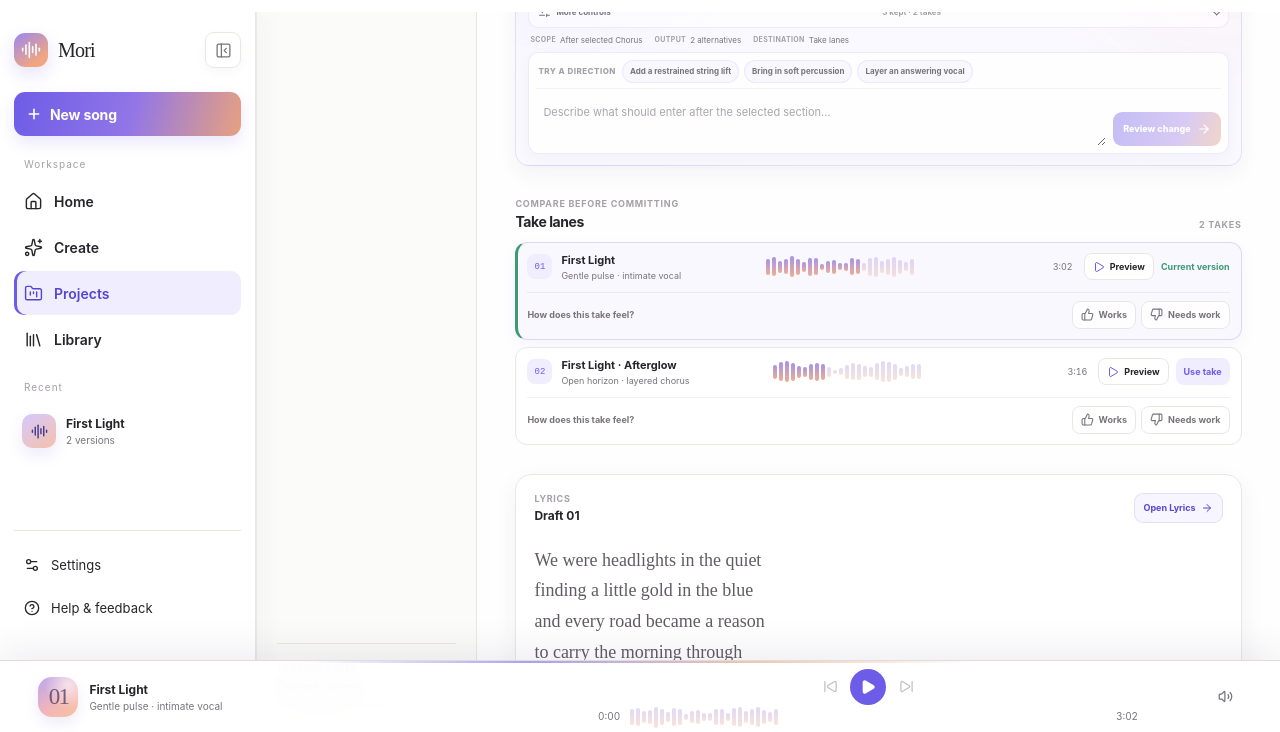
Test: Mori studio page › explains a stale Current conflict without overwriting either Version
(page scrolled)
Click the button with aria-label "Use First Light · Afterglow as current". click: (1203, 372)
box: [1176,358,1230,385]
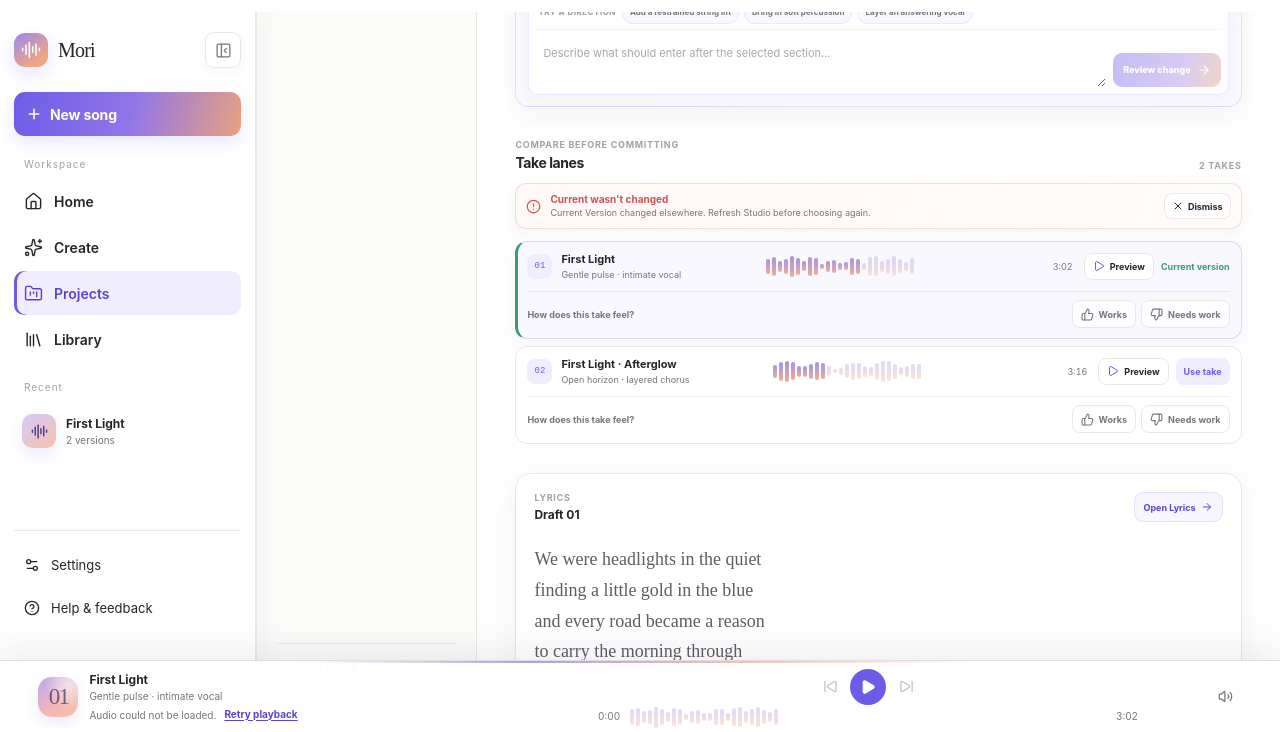
Check: the element named "Take 1: First Light" shows "Current version", box [1161,261,1230,272]
Check: the message that starts with "Current wasn't changed" shows "Current Version changed elsewhere. Refresh Studio before choosing again.", box [550,207,871,218]
